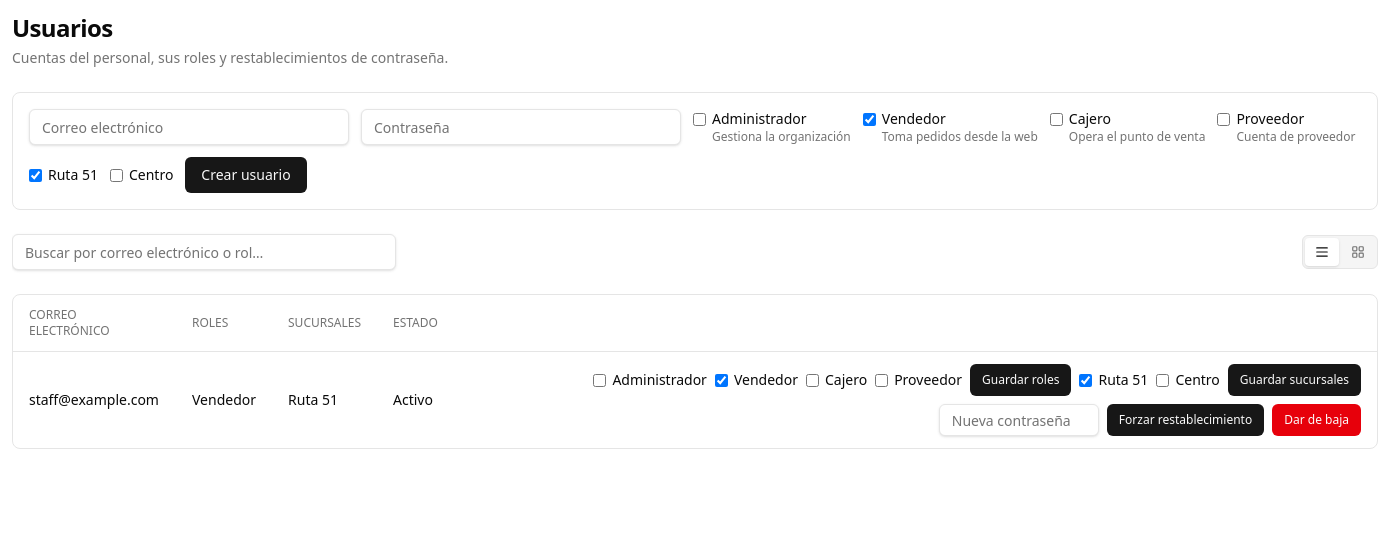
Scenario: UsersScreen › refuses a forced reset with no replacement password and says why
Expected: the text "staff@example.com" is shown, [13,352,176,448]
Click the button "Forzar restablecimiento" at (1186, 420), box [1107,404,1264,436]
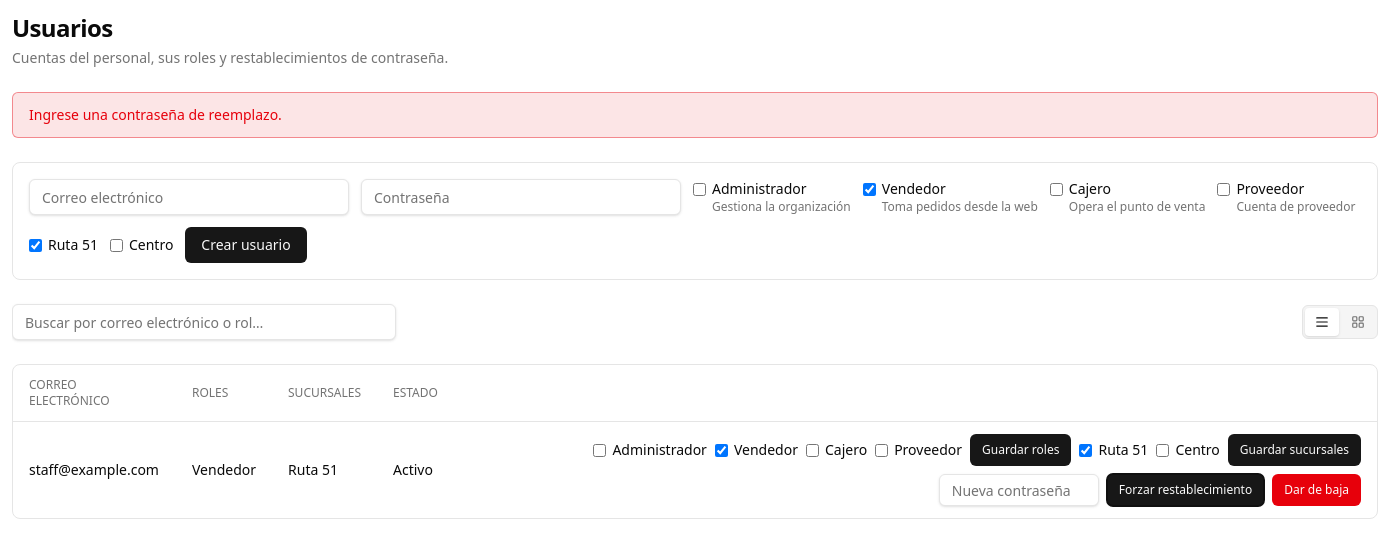
Now the message shows "contraseña de reemplazo", box [29,105,282,124]
